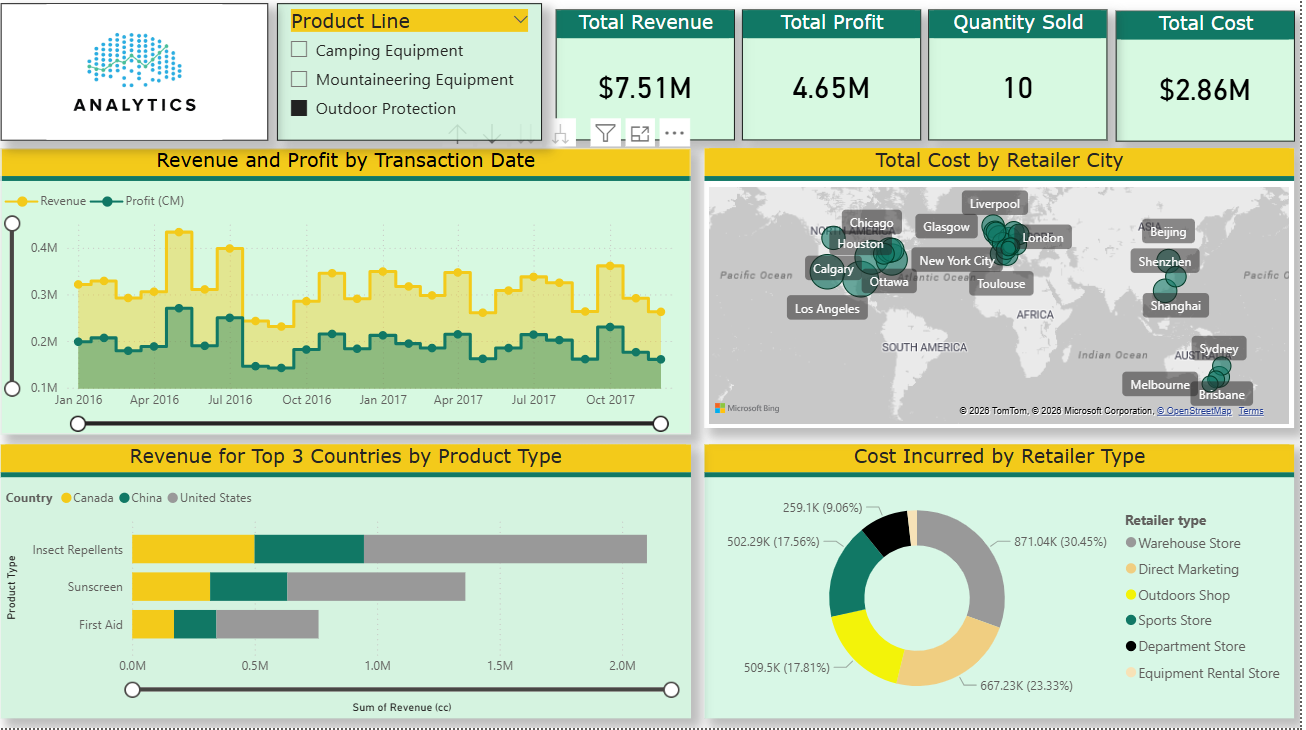

The dashboard page shown, as its layout file describes it:
{"tool":"powerbi","page":{"name":"Page 1","canvas":[1280,720],"ordinal":0},"visuals":[{"type":"card","title":"Total Cost","fields":{"Values":["Sales Table.Total Cost (cc)"]},"box":[1099.3,18.3,174.9,128.4],"z":0},{"type":"card","title":"Total Revenue","fields":{"Values":["Sales Table.Revenue (cc)"]},"box":[551.5,17.1,174.9,128.4],"z":1000},{"type":"areaChart","title":"Revenue and Profit by Transaction Date","fields":{"Category":["Sales Table.Transaction Date.Variation.Date Hierarchy.Year","Sales Table.Transaction Date.Variation.Date Hierarchy.Quarter","Sales Table.Transaction Date.Variation.Date Hierarchy.Month"],"Y":["Sales Table.Revenue (cc)","Sales Table.Profit (CM)"]},"box":[8.6,152.9,675,280],"z":2000},{"type":"donutChart","title":"Cost Incurred by Retailer Type","fields":{"Category":["Sales Table.Retailer type"],"Y":["Sales Table.Total Cost (cc)"]},"box":[697,442.7,577.2,267.8],"z":3000},{"type":"card","title":"Total Profit","fields":{"Values":["Sales Table.Profit (CM)"]},"box":[733.7,17.1,174.9,128.4],"z":4000},{"type":"card","title":"Quantity Sold","fields":{"Values":["Sales Table.Quantity Sold"]},"box":[915.9,17.1,174.9,128.4],"z":5000},{"type":"barChart","title":"Revenue for Top 3 Countries by Product Type","fields":{"Category":["Product Table.Product Type"],"Series":["Country Table.Country"],"Y":["Sales Table.Revenue (cc)"]},"box":[8.6,442.7,675,267.8],"z":6000},{"type":"slicer","fields":{"Values":["Product Table.Product Line"]},"box":[278.8,11,259.2,134.5],"z":7000},{"type":"image","box":[8.6,11,261.7,134.5],"z":8000},{"type":"map","title":"Total Cost by Retailer City","fields":{"Category":["Sales Table.Retailer city"],"Size":["Sales Table.Total Cost (cc)"]},"box":[697,152.9,577.2,273.9],"z":9000}]}

Visuals, with their boxes in screenshot pixels (x1, y1, x2, y2), scaled from the page's 1280x720 canvas onto the 1306x730 screenshot:
"Total Cost" card: detection(1122, 19, 1300, 149)
"Total Revenue" card: detection(563, 17, 741, 148)
"Revenue and Profit by Transaction Date" areaChart: detection(9, 155, 697, 439)
"Cost Incurred by Retailer Type" donutChart: detection(711, 449, 1300, 720)
"Total Profit" card: detection(749, 17, 927, 148)
"Quantity Sold" card: detection(935, 17, 1113, 148)
"Revenue for Top 3 Countries by Product Type" barChart: detection(9, 449, 697, 720)
slicer - Product Table.Product Line: detection(284, 11, 549, 148)
image: detection(9, 11, 276, 148)
"Total Cost by Retailer City" map: detection(711, 155, 1300, 433)
